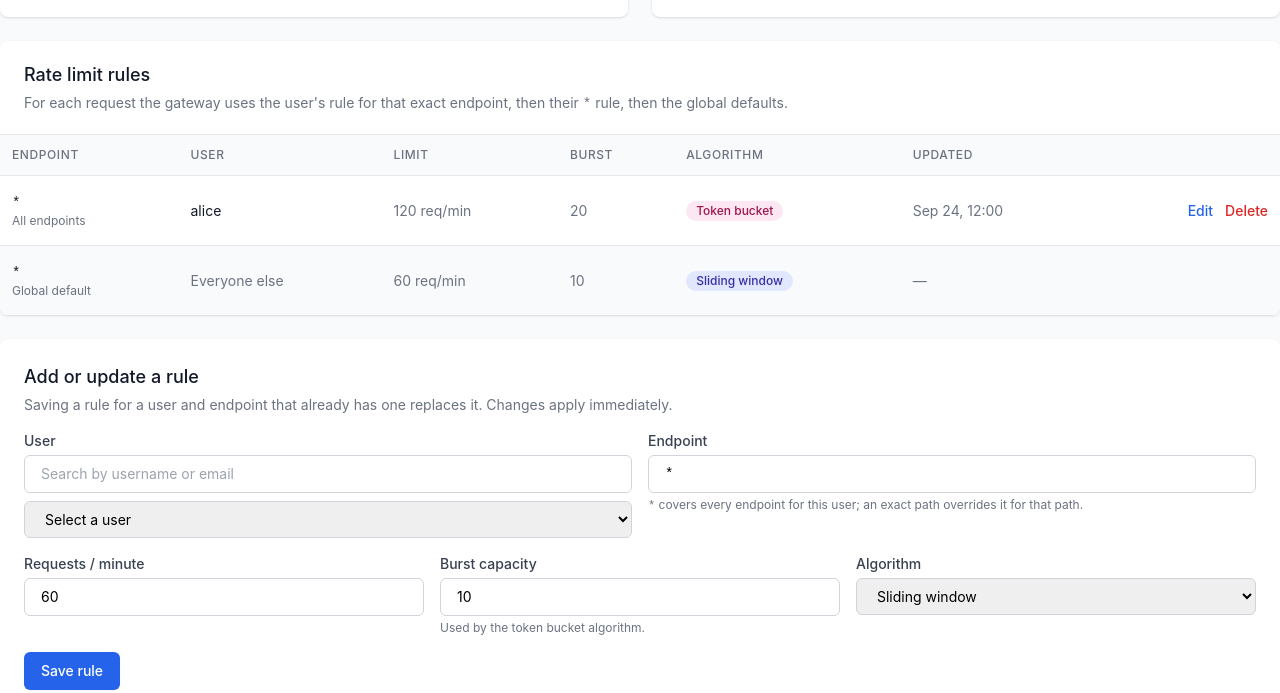
Scenario: RateLimitMonitor › admins can create a rule
The image size is (1280, 693).
(page scrolled)
Select "bob (b@x.com)" in the dropdown labelled "User" at (328, 520), box [24, 501, 632, 538]
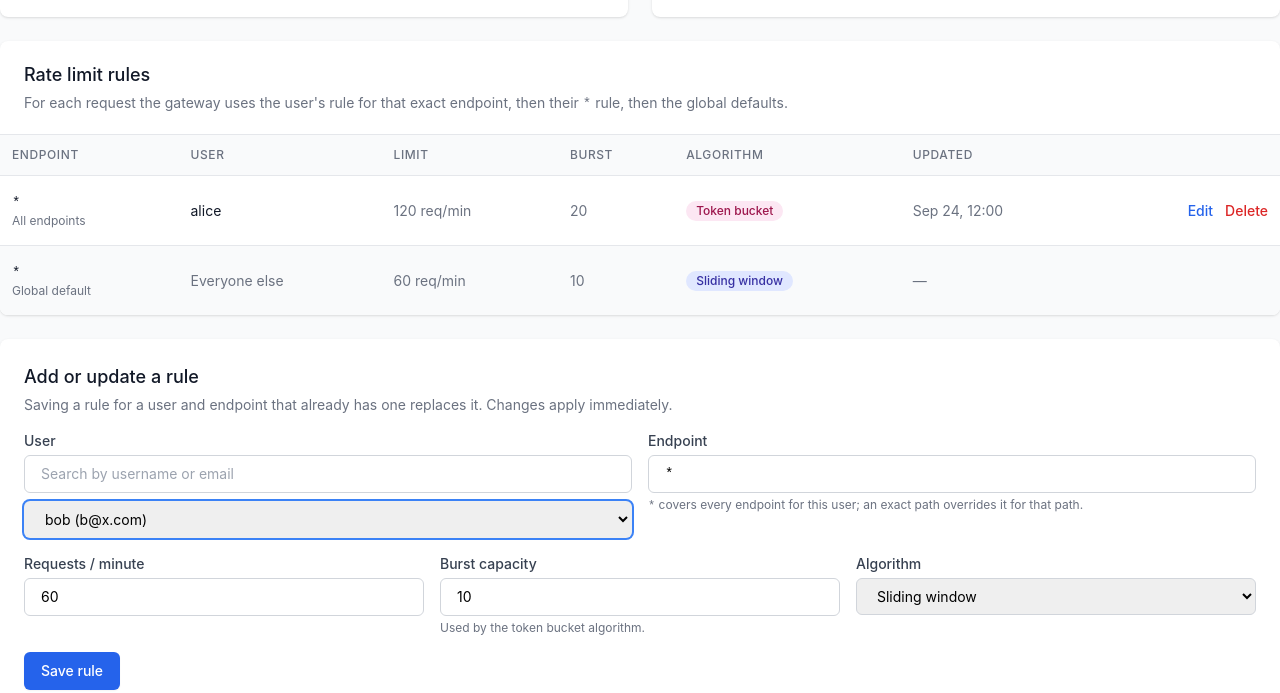
Replace the text in the field labelled "Endpoint" with "/api/v1/hello" at (952, 474), box [648, 455, 1256, 493]
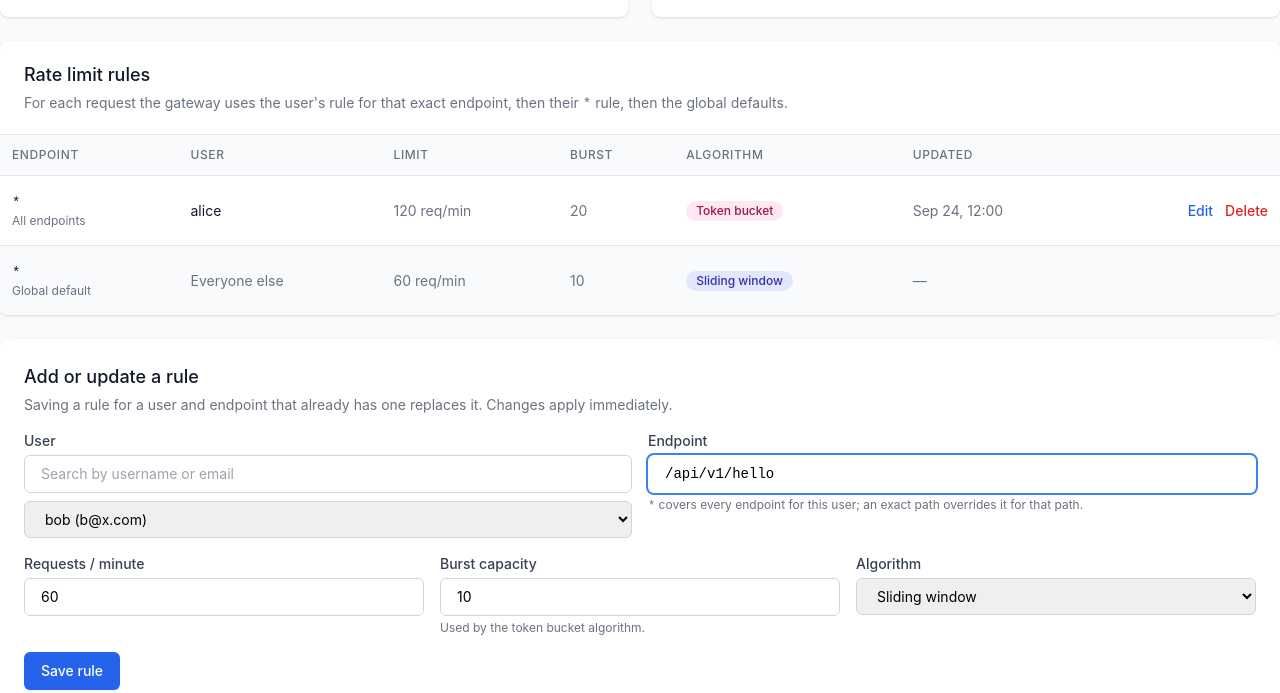
Replace the text in the number field labelled "Requests / minute" with "5" at (224, 597), box [24, 578, 424, 616]
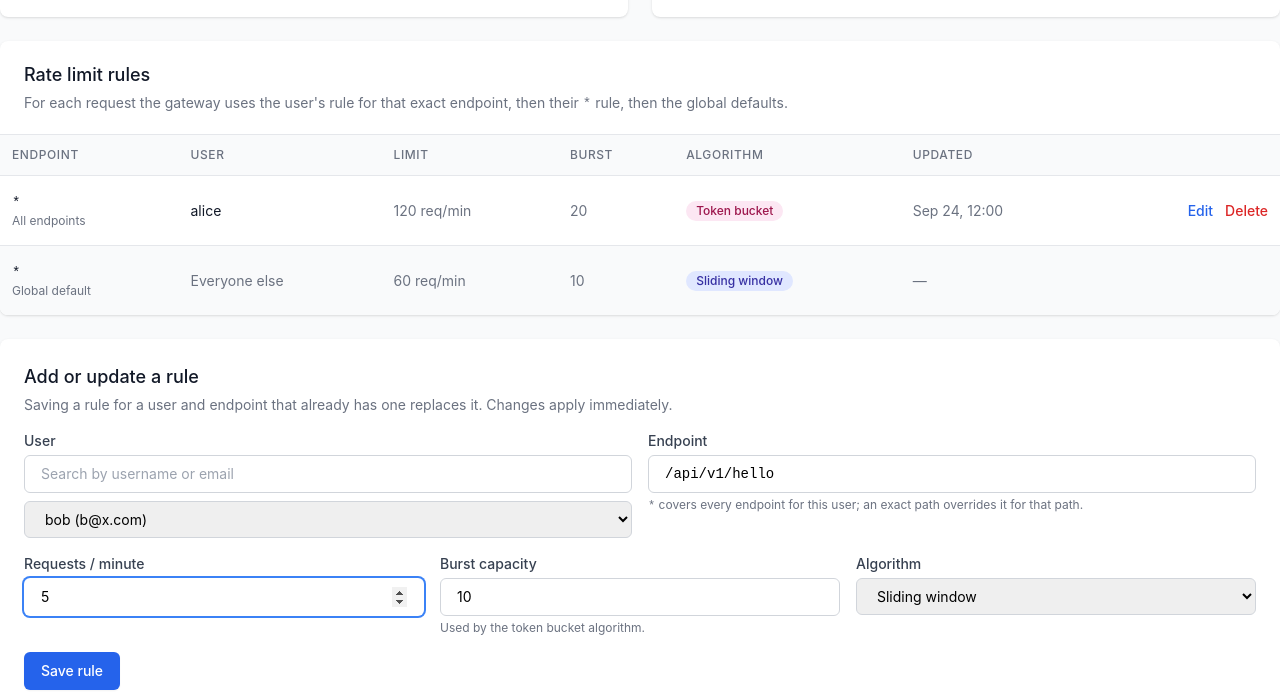
Replace the text in the number field labelled "Burst capacity" with "2" at (640, 597), box [440, 578, 840, 616]
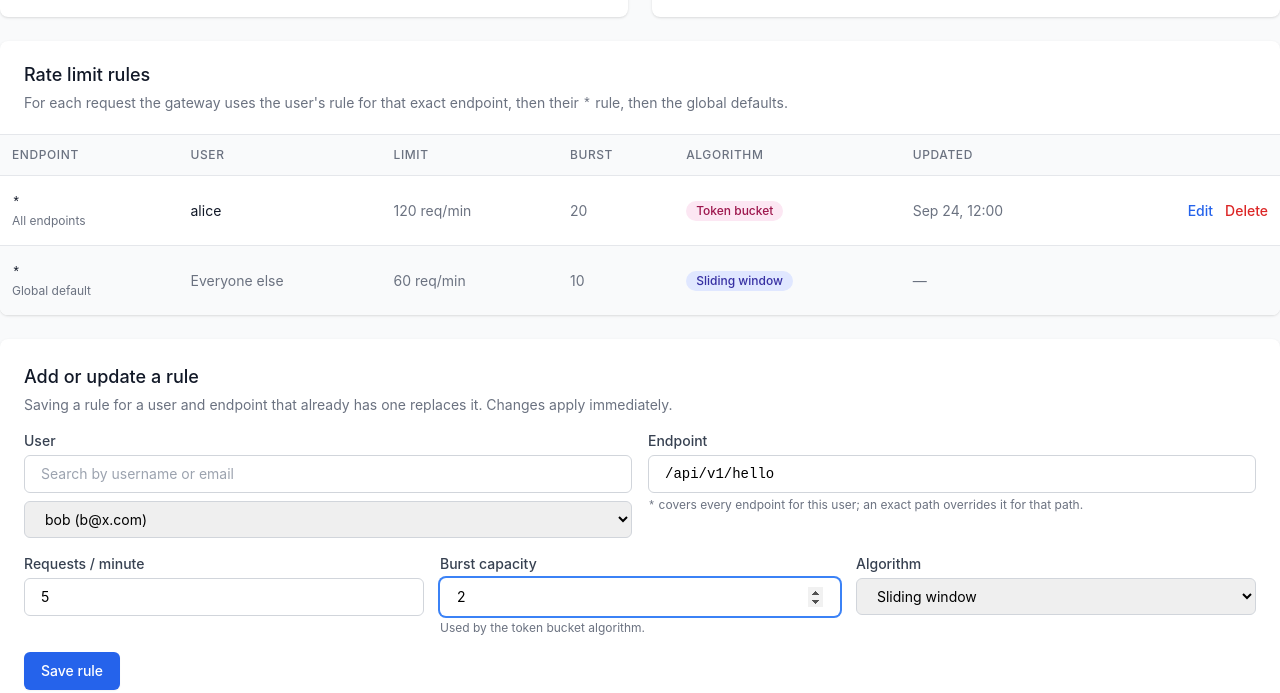
Select "Token bucket" in the dropdown labelled "Algorithm" at (1056, 596), box [856, 578, 1256, 615]
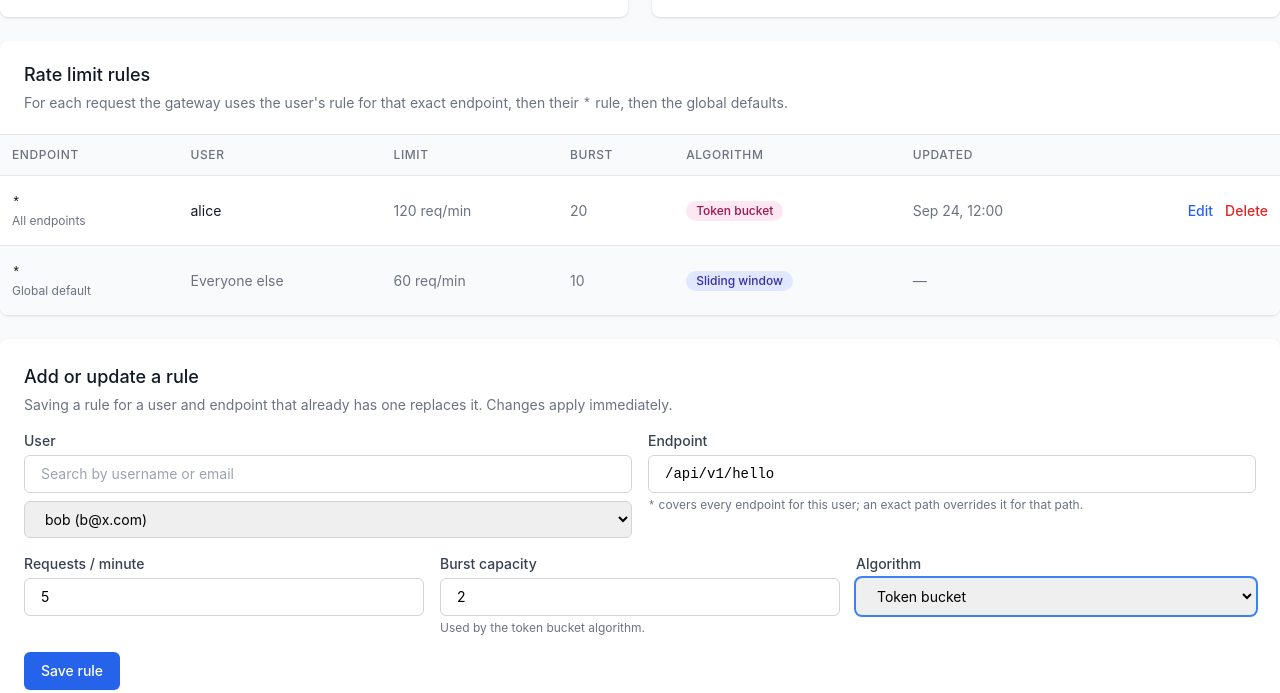
Click the button "Save rule" at (72, 671), box [24, 652, 120, 690]
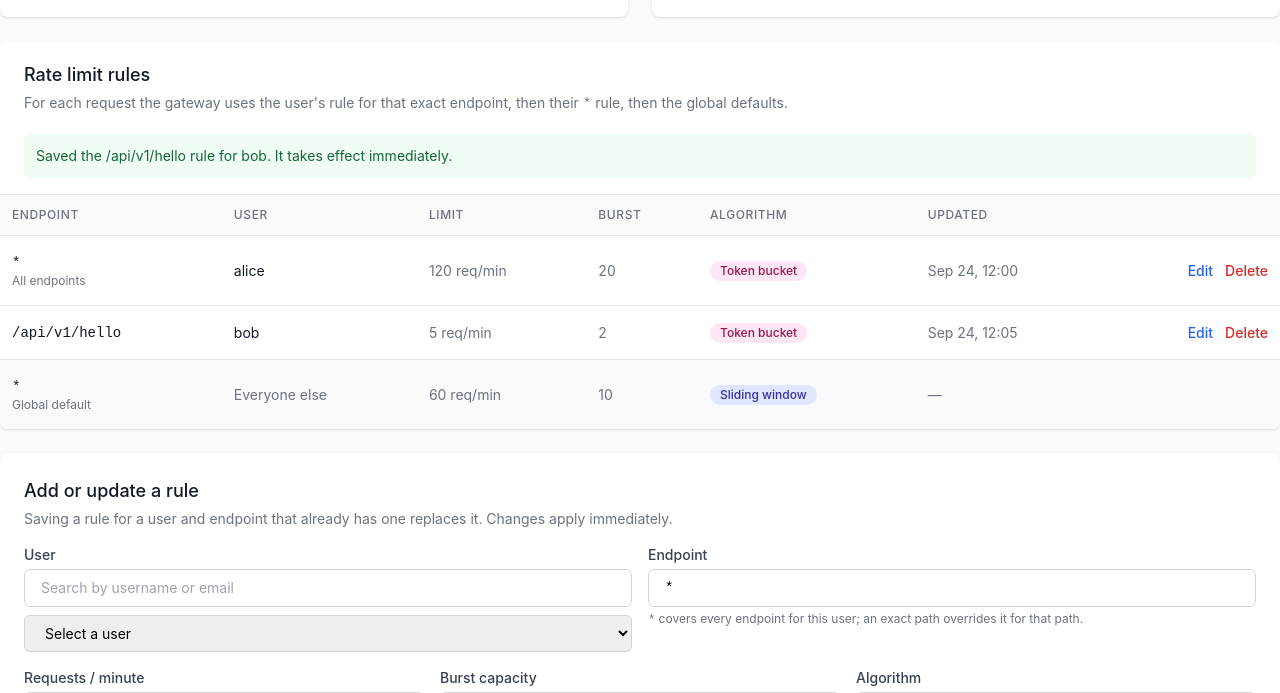
Result: the text "5 req/min" is shown at [417, 306, 586, 360]
Result: the text "Saved the /api/v1/hello rule for bob. It takes effect immediately." is shown at [24, 134, 1256, 178]
Result: the dropdown labelled "User" shows "Select a user" at [24, 615, 632, 652]
